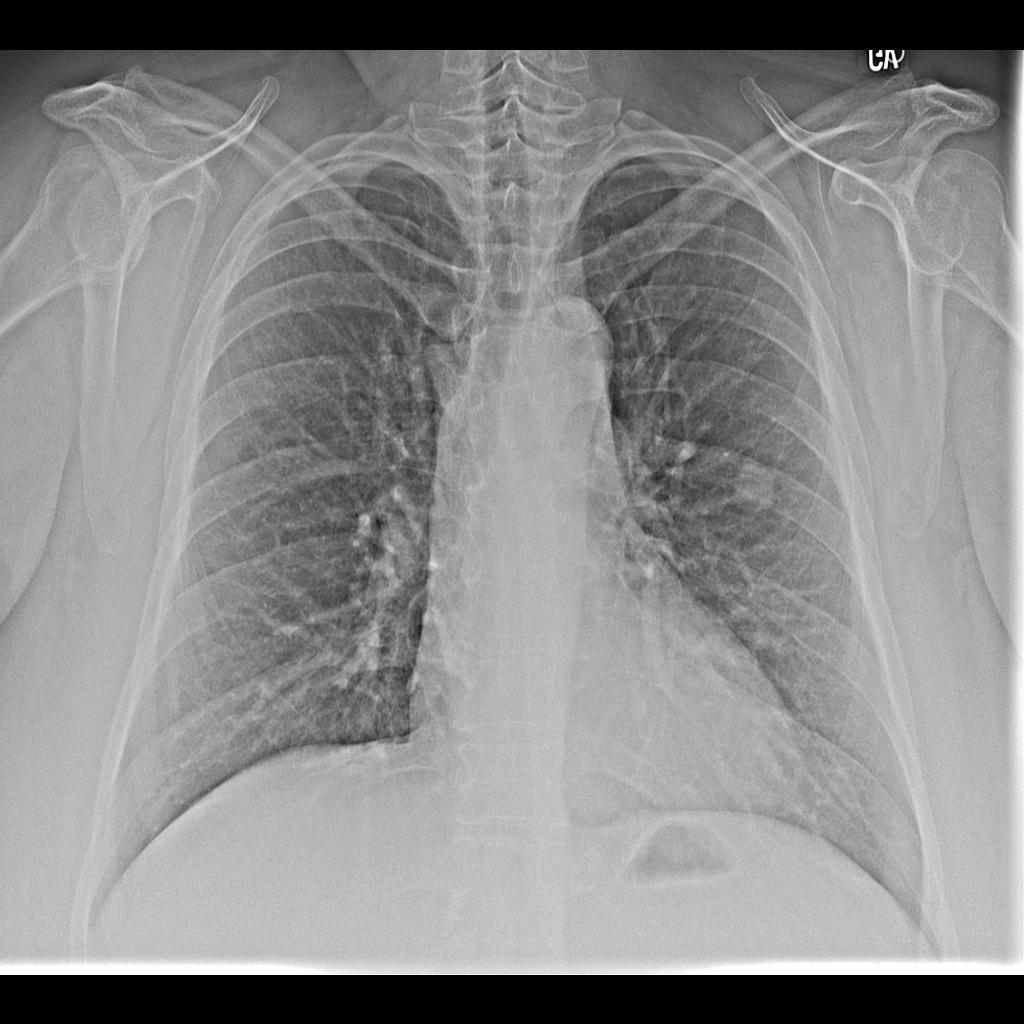Nodule: (733, 467, 782, 513)
